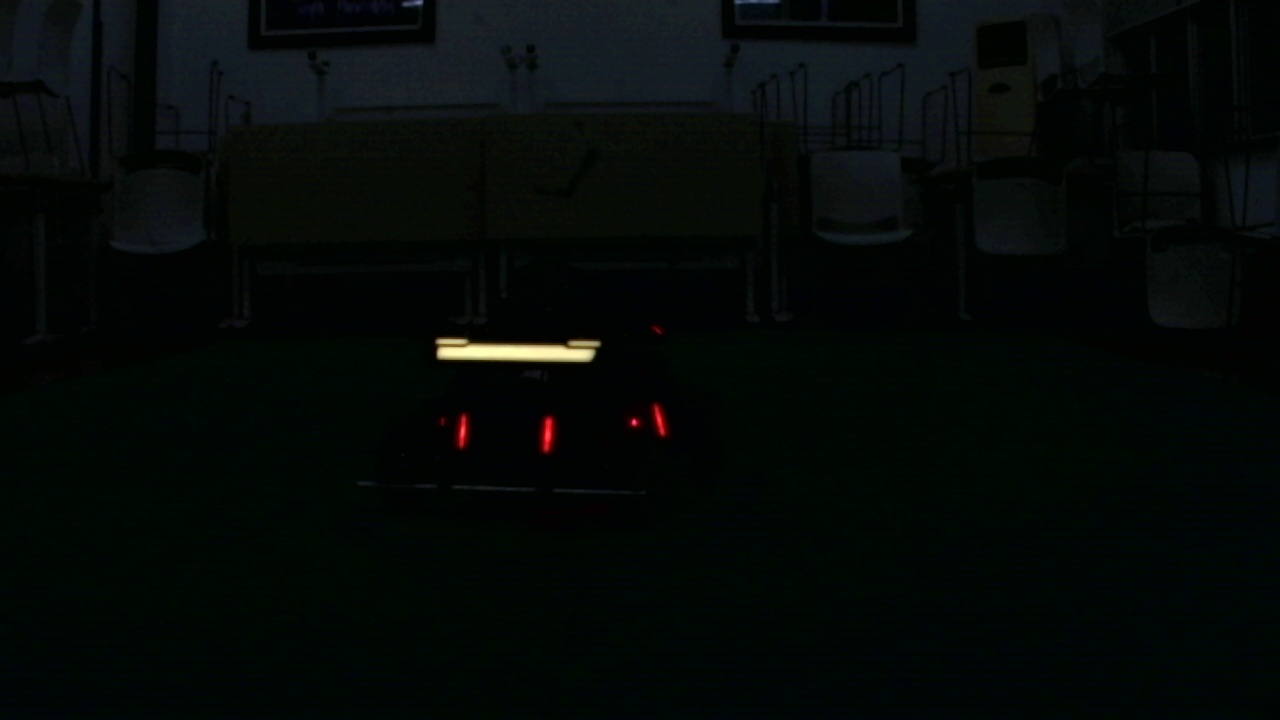lamp: (651, 396, 669, 439), (539, 419, 555, 457), (457, 419, 469, 451)
pair1: (456, 416, 555, 453)
